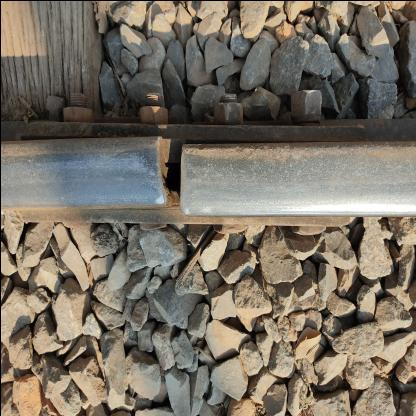Defective: (57, 114, 304, 228)
